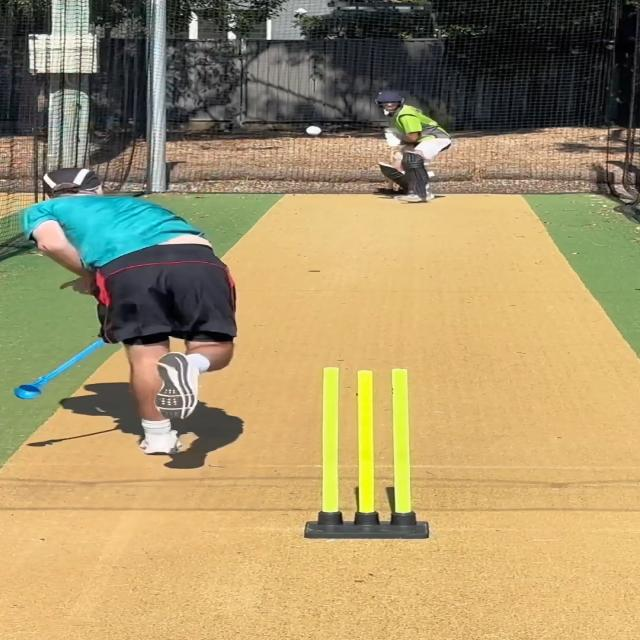ball: (304, 125, 324, 137)
stump: (307, 366, 431, 539)
